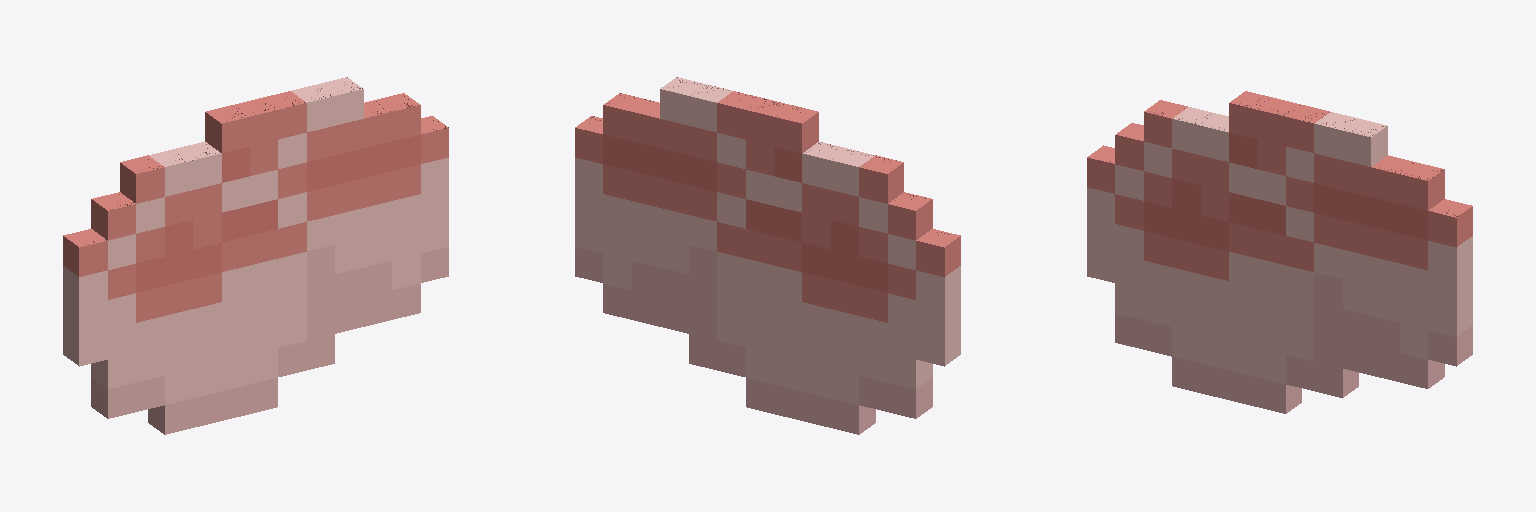
The picture shows the model from 3 angles: view 1: azimuth 30°, elevation 25°; view 2: azimuth 150°, elevation 25°; view 3: azimuth 330°, elevation 25°; orthographic projection.
Size of the model in its own units: 0.8125 by 0.625 by 0.0625.
Materials: 1 (1 with a texture image).